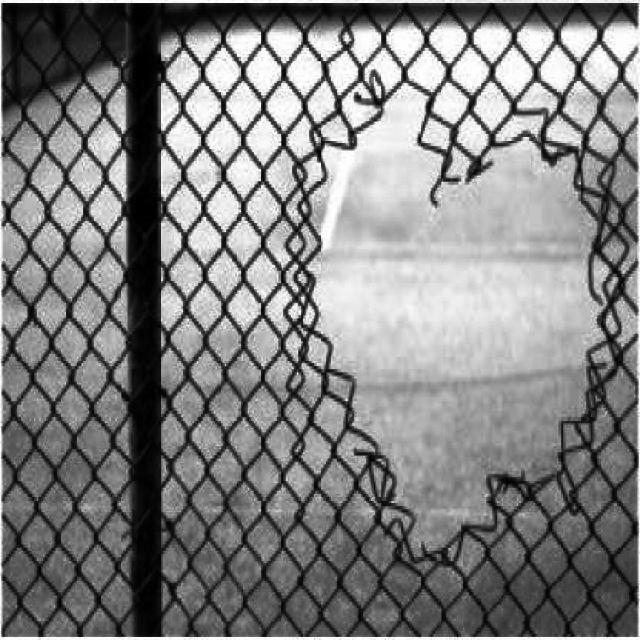anomaly-fence: (277, 42, 628, 596)
